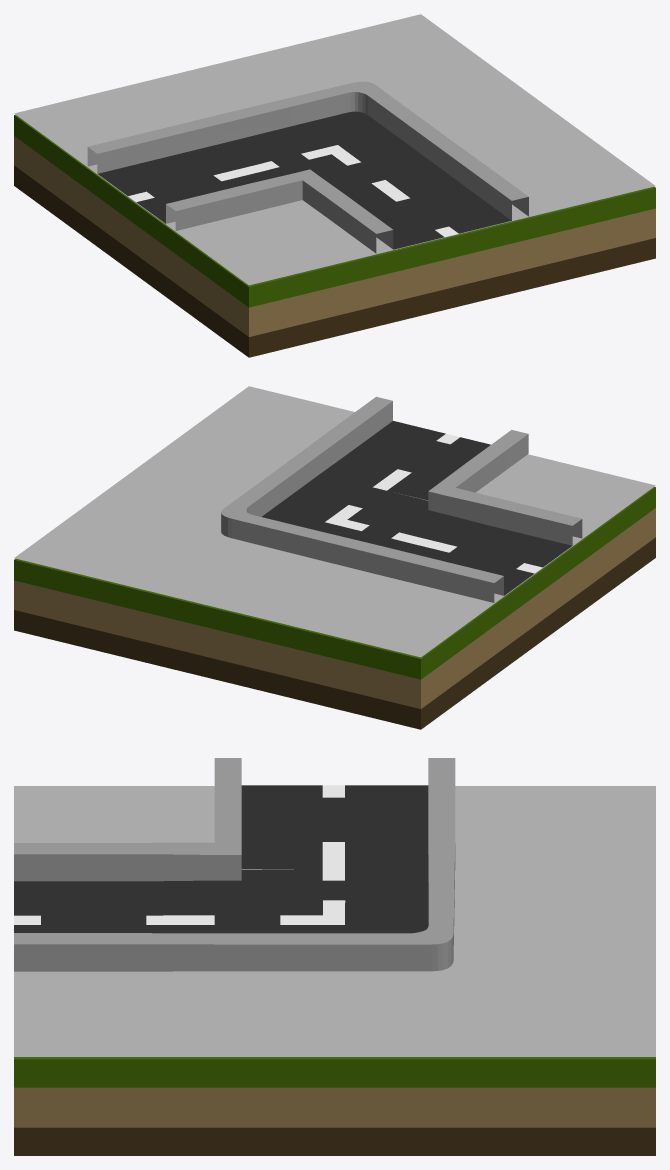
The model's file is rotation road 1.fbx.
The picture shows the model from 3 angles, top to bottom: view 1: azimuth 30°, elevation 25°; view 2: azimuth 150°, elevation 25°; view 3: azimuth 270°, elevation 25°; orthographic projection. The views are drawn at different scales.
Parts seen in each view (by area): view 1: Plane.016; view 2: Plane.016; view 3: Plane.016.
Part boxes in pixels (x1,y1,x2,y2): Plane.016: (14, 14, 655, 357); Plane.016: (14, 386, 655, 729); Plane.016: (14, 758, 655, 1155).
Bounding box in the file's own units: 200 × 43.47 × 200.
